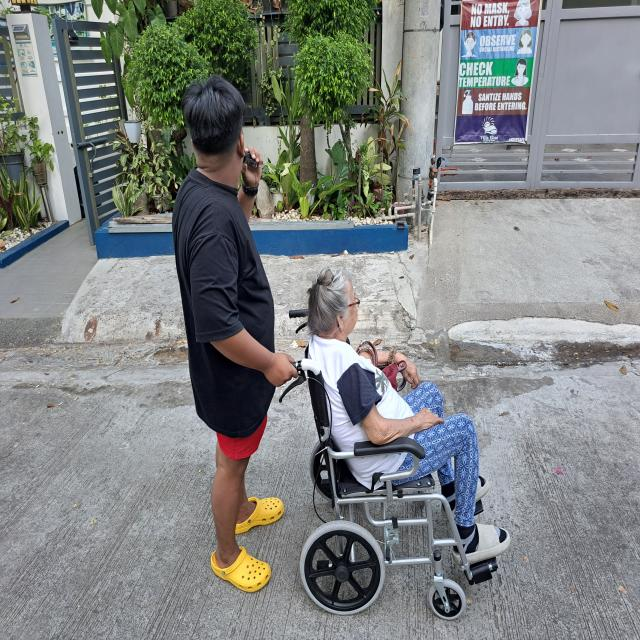wheelchairs: (286, 303, 502, 623)
